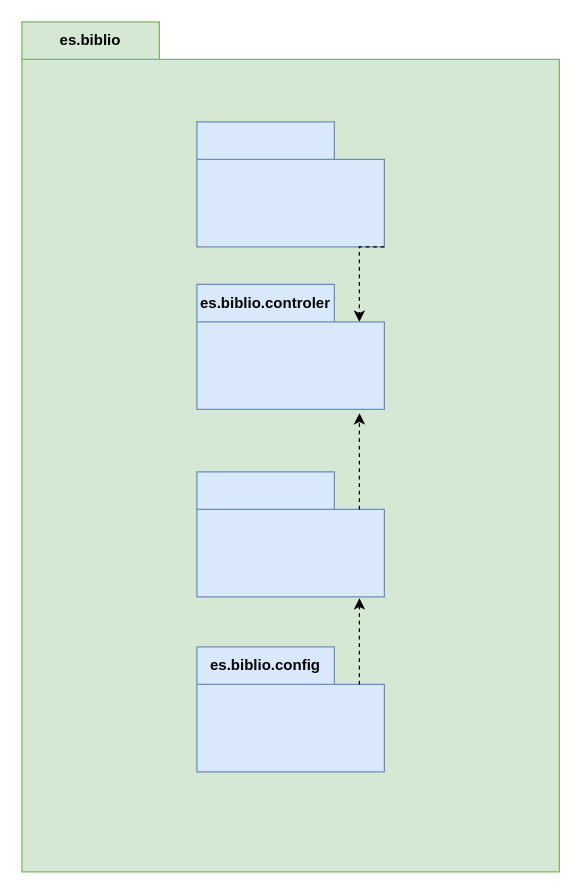
This 581x894 diagram has some shape labels left out. Each missing label, with the centre of its shape:
es.biblio.model: point 290,534
es.biblio.view: point 290,184
